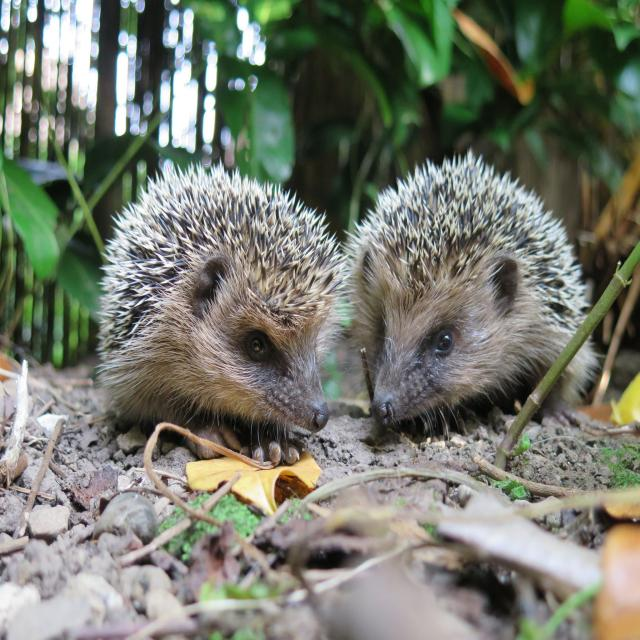Hedgehog: (95, 167, 343, 457), (346, 163, 602, 427)
